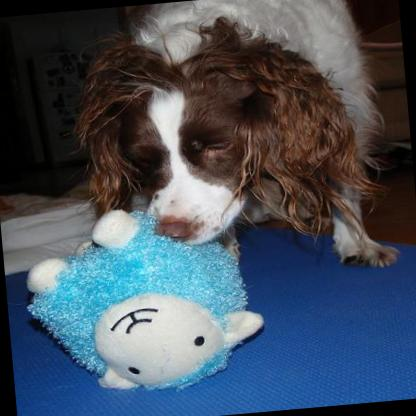Brittany_spaniel: (60, 0, 401, 296)
